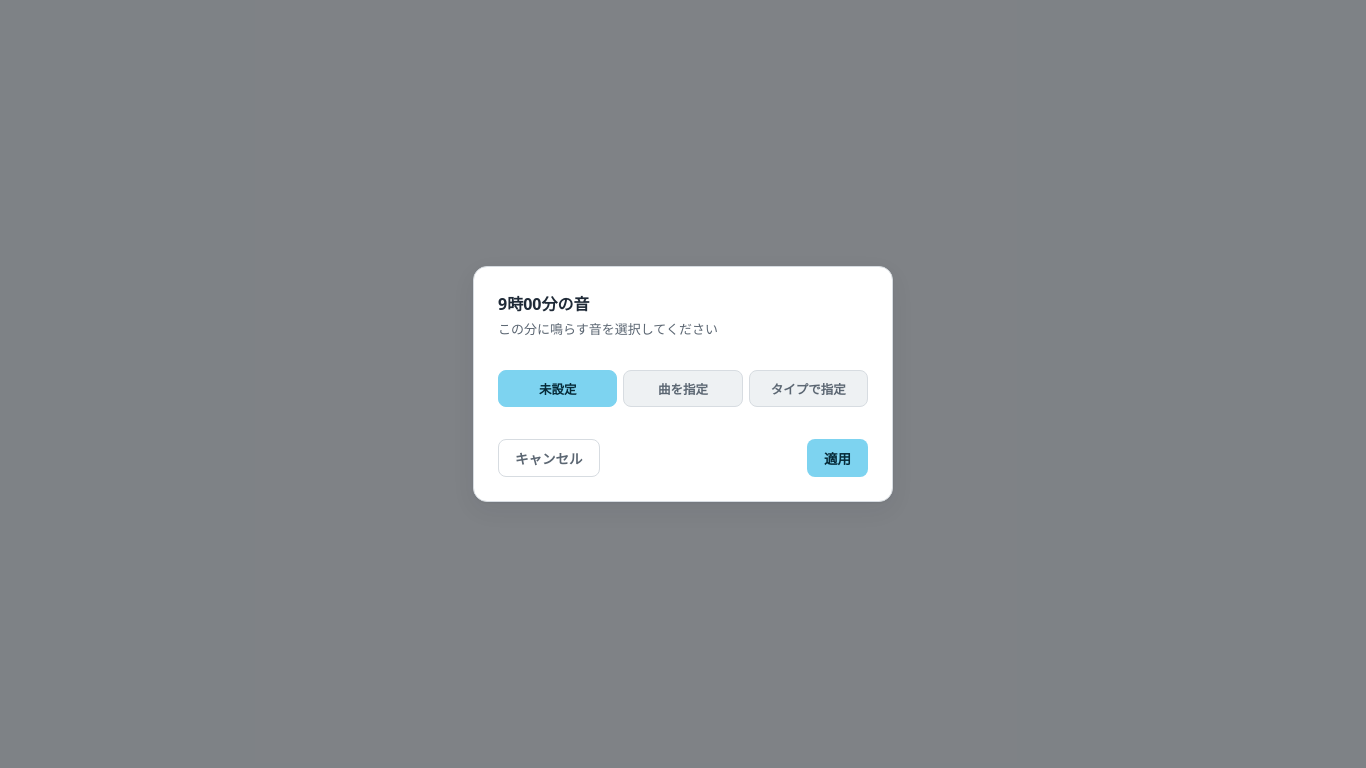
Test: SoundAssignDialog › origin別にグループ見出しが表示され、各グループ内は名前順になる
Click the button "曲を指定". click: (683, 388)
box: [623, 370, 743, 407]
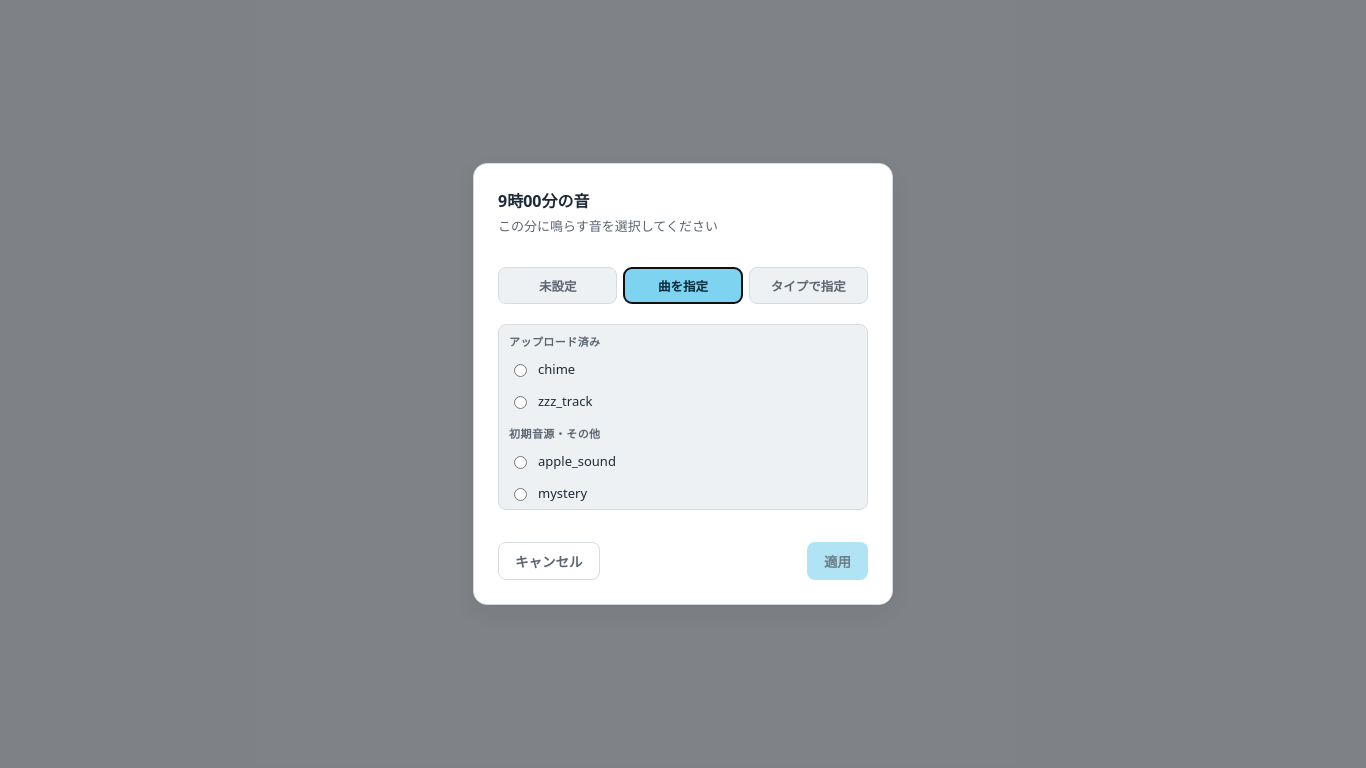
Expected: the radio button labelled "chime" is shown, [514, 364, 527, 377]
Expected: the element named "曲を選択" reads "アップロード済み chime zzz_track 初期音源・その他 apple_sound mystery", [498, 324, 868, 510]
